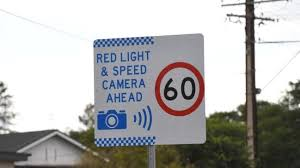sp60: (148, 60, 205, 115)
